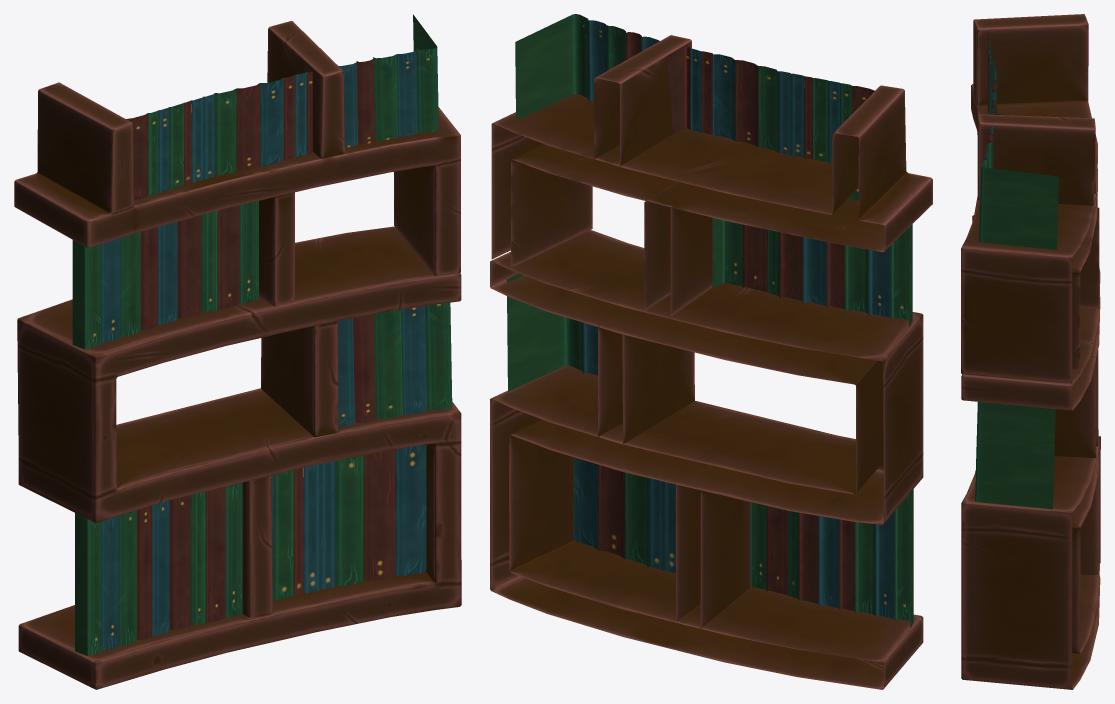
The model's file is SM_BookShelf_04_Full.fbx.
3 renders of one model, left to right at view 1: azimuth 30°, elevation 25°; view 2: azimuth 150°, elevation 25°; view 3: azimuth 270°, elevation 25°, orthographic. The views are drawn at different scales.
Visible parts, largest first — view 1: SM_BookShelf_04_Full_LOD0; view 2: SM_BookShelf_04_Full_LOD0; view 3: SM_BookShelf_04_Full_LOD0.
Part boxes in pixels (x1=…): SM_BookShelf_04_Full_LOD0: x1=14, y1=14, x2=461, y2=689; SM_BookShelf_04_Full_LOD0: x1=490, y1=14, x2=932, y2=689; SM_BookShelf_04_Full_LOD0: x1=961, y1=14, x2=1100, y2=689.
Size of what is drawn, in the model's own units: 2.41 by 3.17 by 0.7896.
